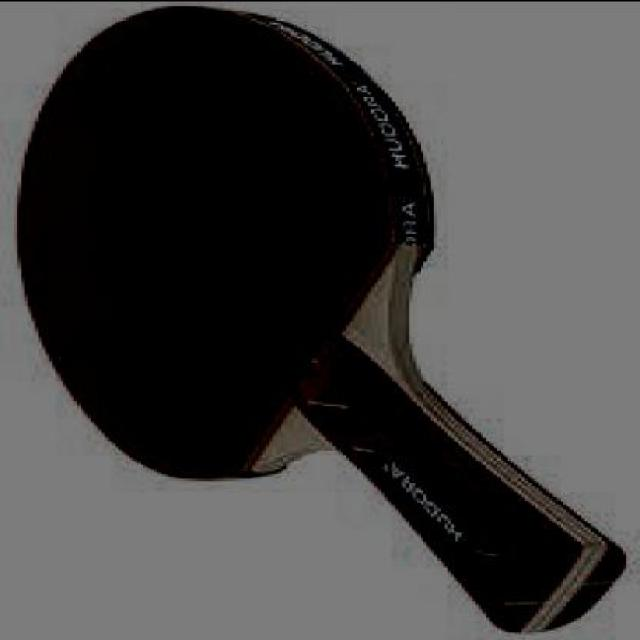table_tennis_racket: (14, 2, 441, 484)
